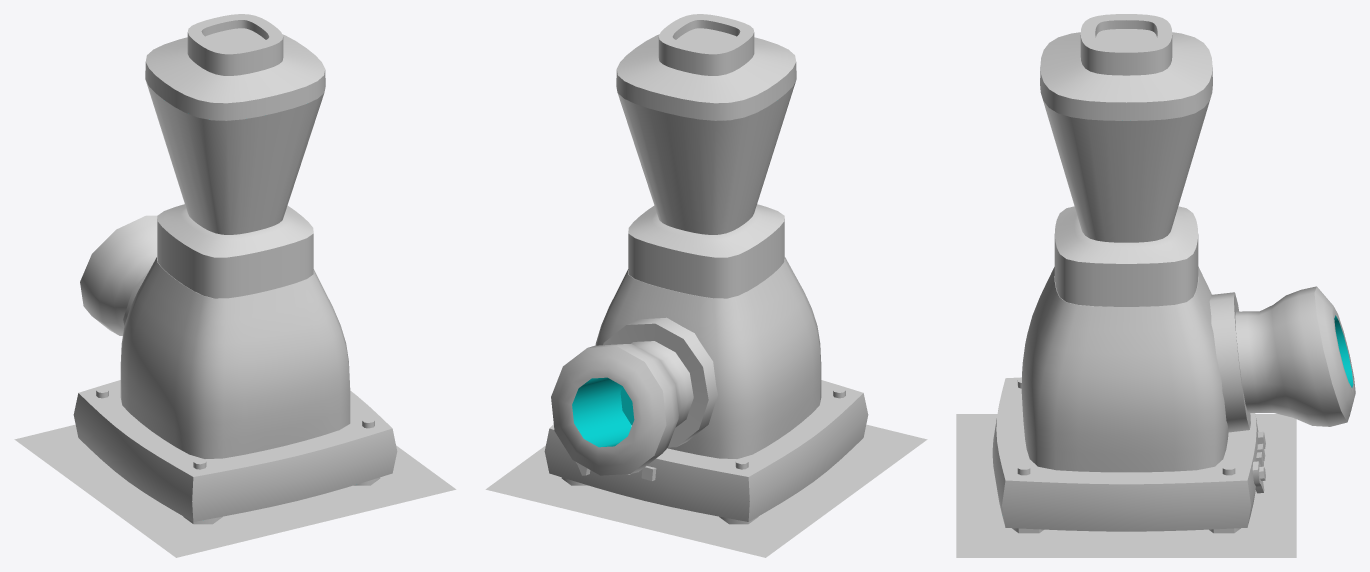
Rendered from BlenderPBR.fbx.
The picture shows the model from 3 angles, left to right: view 1: azimuth 30°, elevation 25°; view 2: azimuth 150°, elevation 25°; view 3: azimuth 270°, elevation 25°; orthographic projection. The views are drawn at different scales.
Parts seen in each view (by area): view 1: glass_copy_low, glass_copy_low.001; view 2: glass_copy_low, glass_copy_low.001; view 3: glass_copy_low, glass_copy_low.001.
Boxes of the visible parts, x1=… form: glass_copy_low: x1=14, y1=14, x2=456, y2=557; glass_copy_low.001: x1=146, y1=81, x2=324, y2=234; glass_copy_low: x1=485, y1=14, x2=927, y2=557; glass_copy_low.001: x1=617, y1=81, x2=795, y2=234; glass_copy_low: x1=956, y1=14, x2=1355, y2=557; glass_copy_low.001: x1=1042, y1=97, x2=1210, y2=242.
Bounding box in the file's own units: 325 × 477 × 381.
